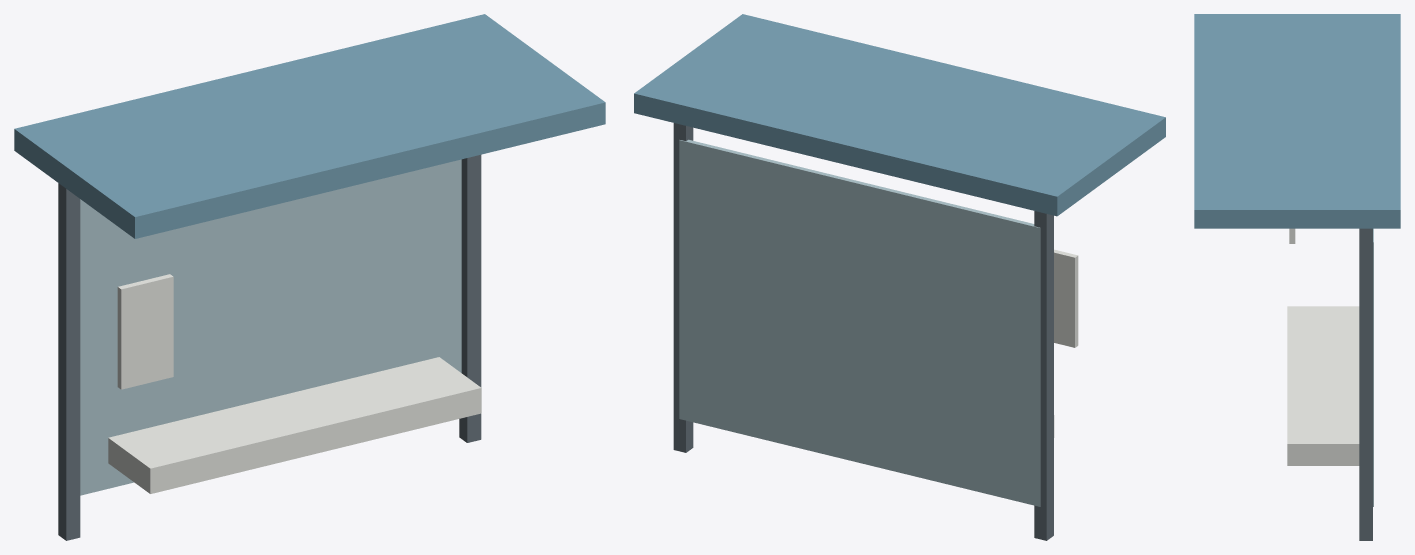
File: city-bus-stop.glb
The picture shows the model from 3 angles, left to right: view 1: azimuth 30°, elevation 25°; view 2: azimuth 150°, elevation 25°; view 3: azimuth 270°, elevation 25°; orthographic projection. The views are drawn at different scales.
Size of the model in its own units: 2.7 by 2.2 by 1.2.
